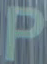Parking: (6, 4, 44, 62)
